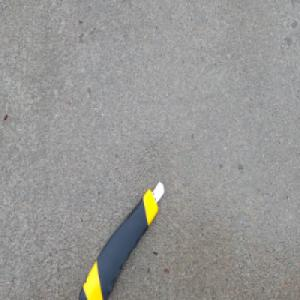Cutter: (75, 179, 165, 299)
